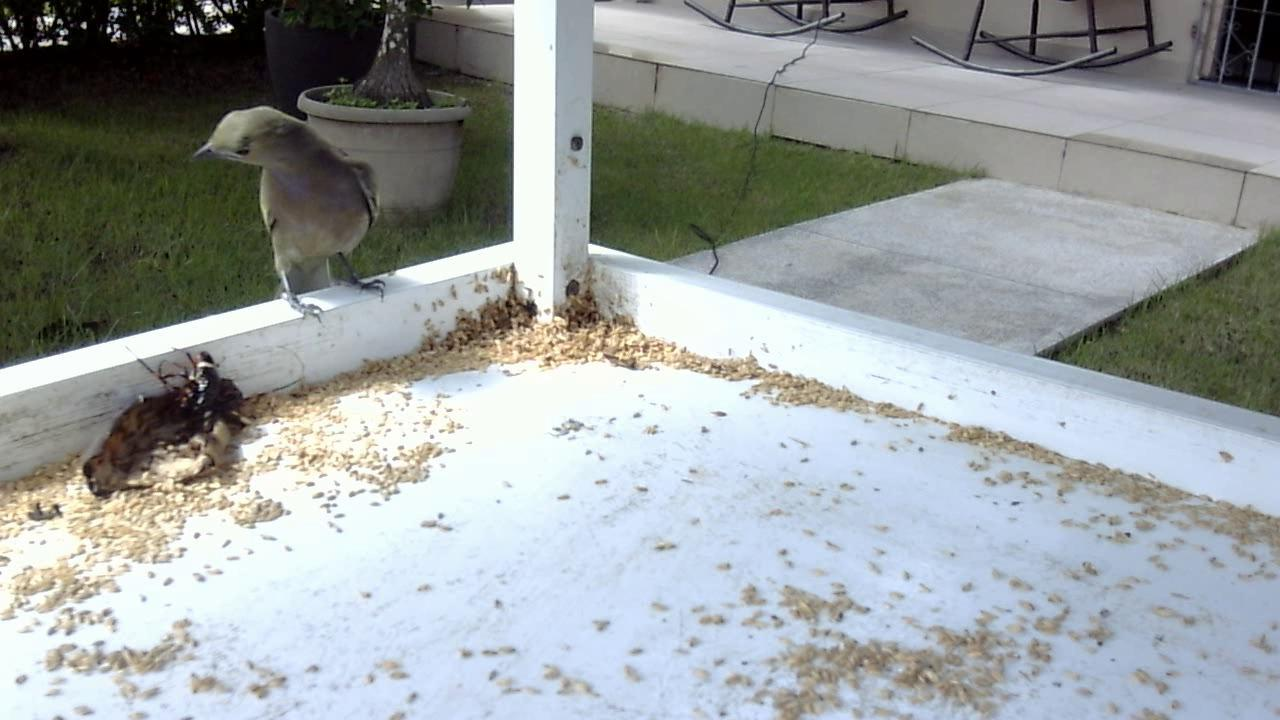sanhaco_do_coqueiro: (187, 97, 397, 335)
